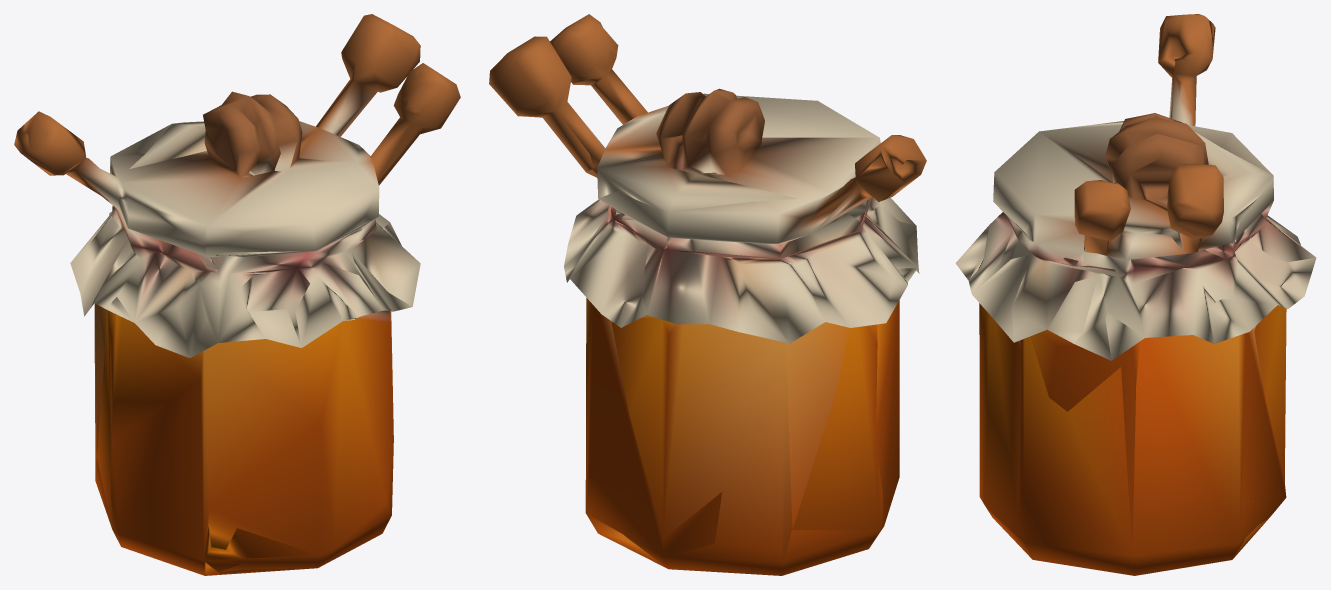
File: gen3d-honey-jar-lod1.glb
3 views of the same model, side by side, from view 1: azimuth 30°, elevation 25°; view 2: azimuth 150°, elevation 25°; view 3: azimuth 270°, elevation 25° (orthographic). The views are drawn at different scales.
Visible parts, largest first — view 1: part_0; view 2: part_0; view 3: part_0.
Boxes of the visible parts, x1,y1,x2,y2 form: part_0: [14, 14, 460, 575]; part_0: [489, 14, 926, 575]; part_0: [955, 14, 1316, 575].
Size of the model in its own units: 0.9426 by 0.997 by 0.7426.
